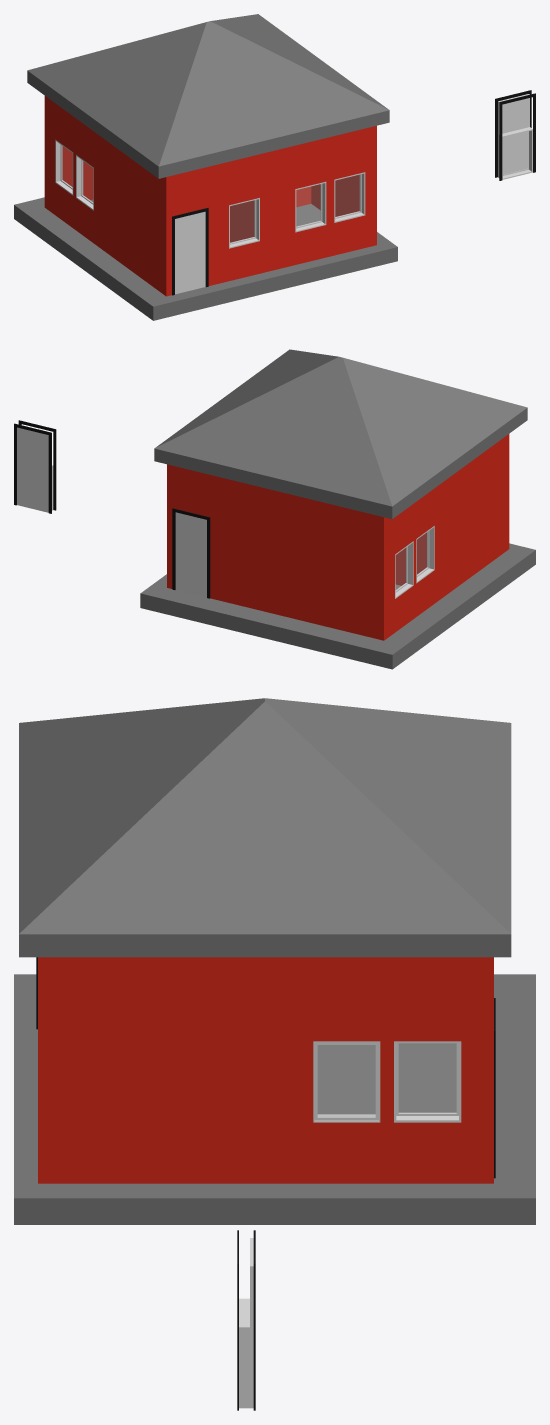
3 renders of one model, top to bottom at view 1: azimuth 30°, elevation 25°; view 2: azimuth 150°, elevation 25°; view 3: azimuth 270°, elevation 25°, orthographic. The views are drawn at different scales.
Parts seen in each view (by area): view 1: IfcSlab/Basic Roof:Generic Roof - 300mm:217659.003, IfcWall/Basic Wall:Wall 20 thick:215595, IfcSlab/Basic Roof:Generic Roof - 300mm:217659, IfcWall/Basic Wall:Wall 20 thick:215540, IfcSlab/Floor:Generic Floor - 400mm:217761, IfcDoor/M_Single-Flush:0915 x 2134mm:216359, IfcDoorType/M_Single-Flush:0915 x 2134mm, IfcSlab/Basic Roof:Generic Roof - 300mm:217659.001, IfcWall/Basic Wall:Wall 20 thick:215738, IfcWindow/M_Fixed:0915 x 1220mm:217290, IfcWindow/M_Fixed:0915 x 1220mm:217183, IfcWindow/M_Fixed:0915 x 1220mm:216949 (+5 smaller); view 2: IfcWall/Basic Wall:Wall 20 thick:215820, IfcSlab/Basic Roof:Generic Roof - 300mm:217659.002, IfcSlab/Basic Roof:Generic Roof - 300mm:217659, IfcWall/Basic Wall:Wall 20 thick:215540, IfcSlab/Floor:Generic Floor - 400mm:217761, IfcDoorType/M_Single-Flush:0915 x 2134mm, IfcDoor/M_Single-Flush:0915 x 2134mm:216614, IfcSlab/Basic Roof:Generic Roof - 300mm:217659.001, IfcWindow/M_Fixed:0915 x 1220mm:216711, IfcWindow/M_Fixed:0915 x 1220mm:216825, IfcWall/Basic Wall:Wall 20 thick:215663; view 3: IfcWall/Basic Wall:Wall 20 thick:215738, IfcSlab/Basic Roof:Generic Roof - 300mm:217659.001, IfcSlab/Floor:Generic Floor - 400mm:217761, IfcSlab/Basic Roof:Generic Roof - 300mm:217659.002, IfcSlab/Basic Roof:Generic Roof - 300mm:217659.003, IfcWindow/M_Fixed:0915 x 1220mm:216861, IfcWindow/M_Fixed:0915 x 1220mm:216895, IfcWall/Basic Wall:Wall 20 thick:215820, IfcDoorType/M_Single-Flush:0915 x 2134mm, IfcWindowType/M_Fixed:0915 x 1220mm.
Boxes of the visible parts, left/top/right/bottom form: IfcSlab/Basic Roof:Generic Roof - 300mm:217659.003: left=158, top=21, right=389, bottom=178; IfcWall/Basic Wall:Wall 20 thick:215595: left=173, top=127, right=370, bottom=285; IfcSlab/Basic Roof:Generic Roof - 300mm:217659: left=27, top=22, right=206, bottom=178; IfcWall/Basic Wall:Wall 20 thick:215540: left=44, top=96, right=172, bottom=296; IfcSlab/Floor:Generic Floor - 400mm:217761: left=14, top=197, right=397, bottom=320; IfcDoor/M_Single-Flush:0915 x 2134mm:216359: left=172, top=208, right=208, bottom=295; IfcDoorType/M_Single-Flush:0915 x 2134mm: left=495, top=90, right=535, bottom=180; IfcSlab/Basic Roof:Generic Roof - 300mm:217659.001: left=210, top=14, right=388, bottom=109; IfcWall/Basic Wall:Wall 20 thick:215738: left=311, top=125, right=376, bottom=246; IfcWindow/M_Fixed:0915 x 1220mm:217290: left=295, top=181, right=326, bottom=232; IfcWindow/M_Fixed:0915 x 1220mm:217183: left=334, top=172, right=365, bottom=222; IfcWindow/M_Fixed:0915 x 1220mm:216949: left=229, top=198, right=259, bottom=248; IfcWall/Basic Wall:Wall 20 thick:215820: left=167, top=464, right=376, bottom=638; IfcSlab/Basic Roof:Generic Roof - 300mm:217659.002: left=154, top=356, right=392, bottom=518; IfcSlab/Basic Roof:Generic Roof - 300mm:217659: left=343, top=357, right=527, bottom=518; IfcWall/Basic Wall:Wall 20 thick:215540: left=377, top=434, right=509, bottom=640; IfcSlab/Floor:Generic Floor - 400mm:217761: left=140, top=543, right=535, bottom=669; IfcDoorType/M_Single-Flush:0915 x 2134mm: left=14, top=420, right=56, bottom=513; IfcDoor/M_Single-Flush:0915 x 2134mm:216614: left=172, top=508, right=210, bottom=598; IfcSlab/Basic Roof:Generic Roof - 300mm:217659.001: left=155, top=349, right=338, bottom=447; IfcWindow/M_Fixed:0915 x 1220mm:216711: left=395, top=541, right=413, bottom=598; IfcWindow/M_Fixed:0915 x 1220mm:216825: left=416, top=526, right=434, bottom=583; IfcWall/Basic Wall:Wall 20 thick:215663: left=395, top=532, right=426, bottom=585; IfcWall/Basic Wall:Wall 20 thick:215738: left=38, top=957, right=478, bottom=1183; IfcSlab/Basic Roof:Generic Roof - 300mm:217659.001: left=19, top=701, right=511, bottom=957; IfcSlab/Floor:Generic Floor - 400mm:217761: left=14, top=974, right=535, bottom=1224; IfcSlab/Basic Roof:Generic Roof - 300mm:217659.002: left=265, top=698, right=511, bottom=933; IfcSlab/Basic Roof:Generic Roof - 300mm:217659.003: left=19, top=698, right=264, bottom=933; IfcWindow/M_Fixed:0915 x 1220mm:216861: left=394, top=1041, right=461, bottom=1122; IfcWindow/M_Fixed:0915 x 1220mm:216895: left=313, top=1041, right=380, bottom=1122; IfcWall/Basic Wall:Wall 20 thick:215820: left=479, top=957, right=493, bottom=1183; IfcDoorType/M_Single-Flush:0915 x 2134mm: left=237, top=1230, right=255, bottom=1410; IfcWindowType/M_Fixed:0915 x 1220mm: left=239, top=1298, right=253, bottom=1408.
Size of the model in its own units: 13.02 by 6.28 by 7.1.
